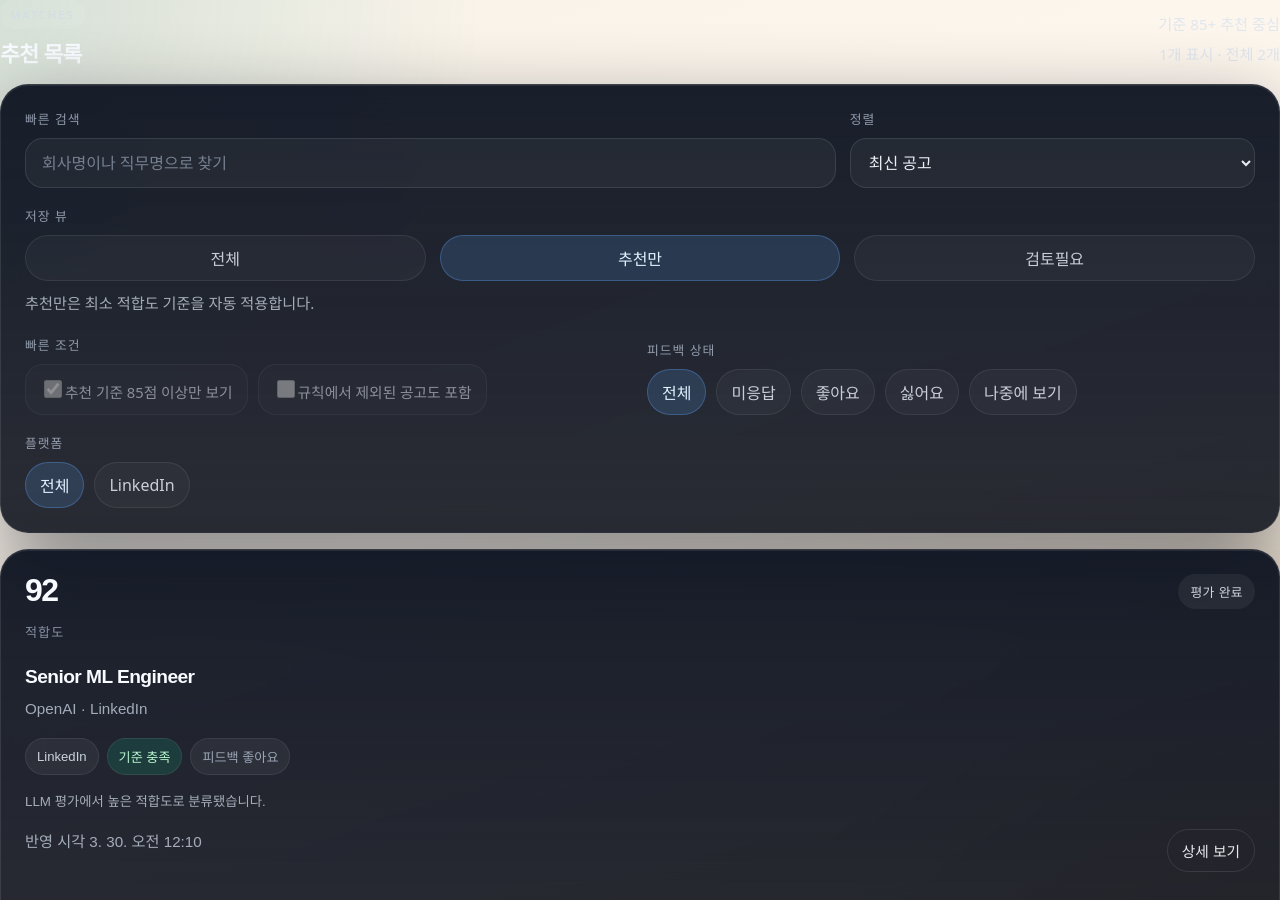
Scenario: RecommendationBoard › includes rejected jobs and highlights the rejection reason when enabled
The image size is (1280, 900).
expect the text "Junior Analyst" is not shown: met
Click the button "검토필요".
click(1055, 258)  # box [854,235,1255,281]
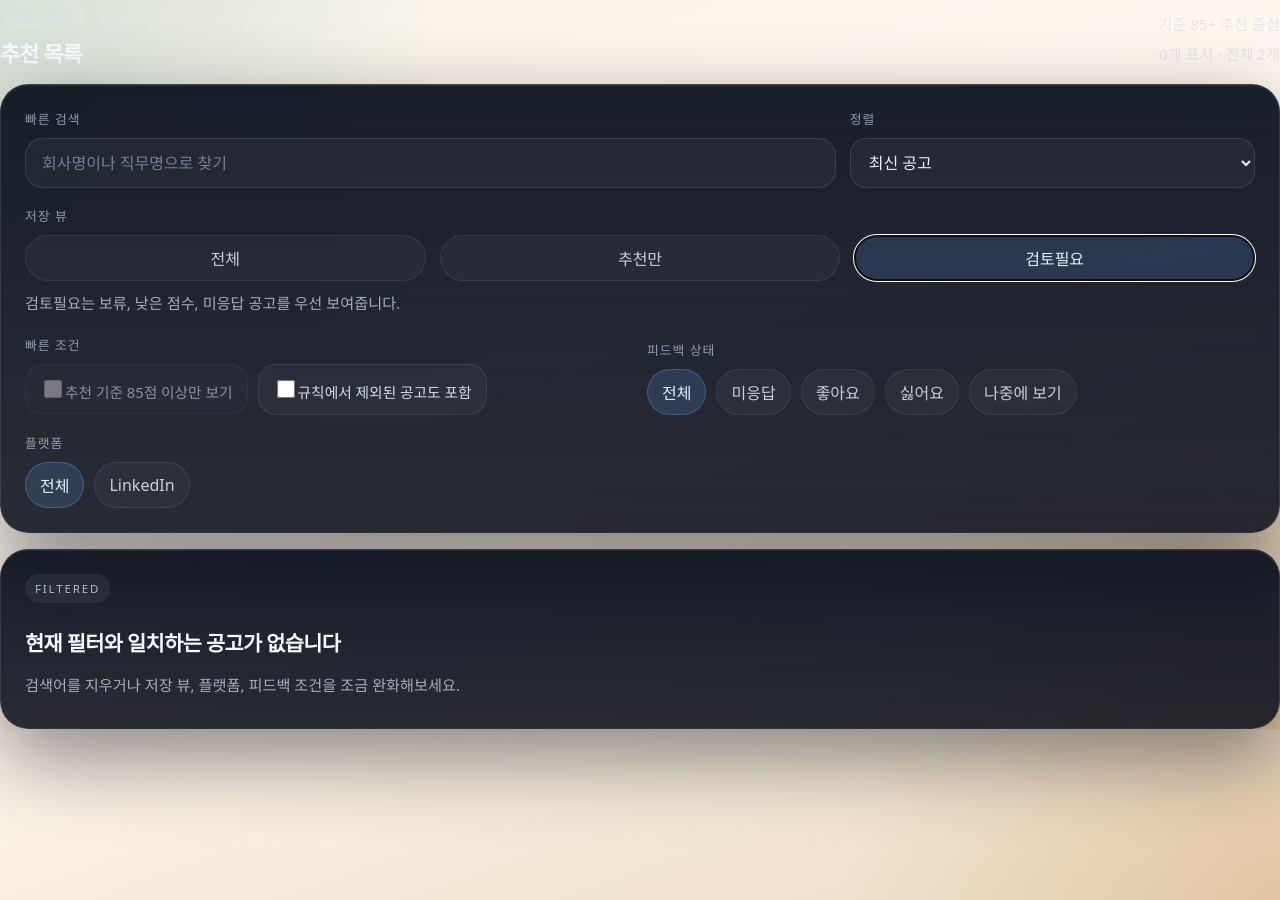
Click the checkbox labelled "규칙에서 제외된 공고도 포함".
click(286, 389)  # box [277,380,295,398]
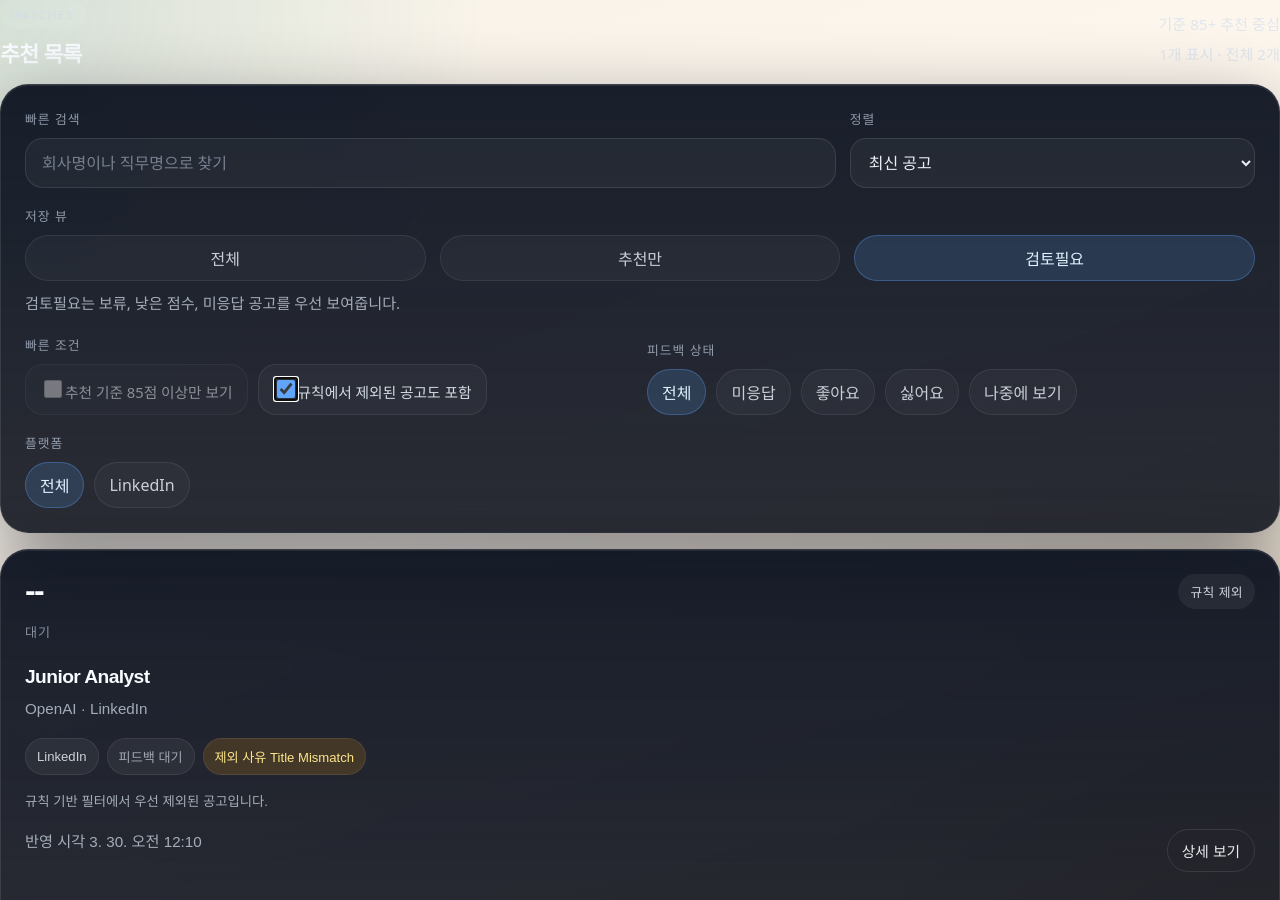
expect the heading "Junior Analyst" is shown: met, box [25,666,150,687]
expect the text "제외 사유 Title Mismatch" is shown: met, box [202,738,366,775]
